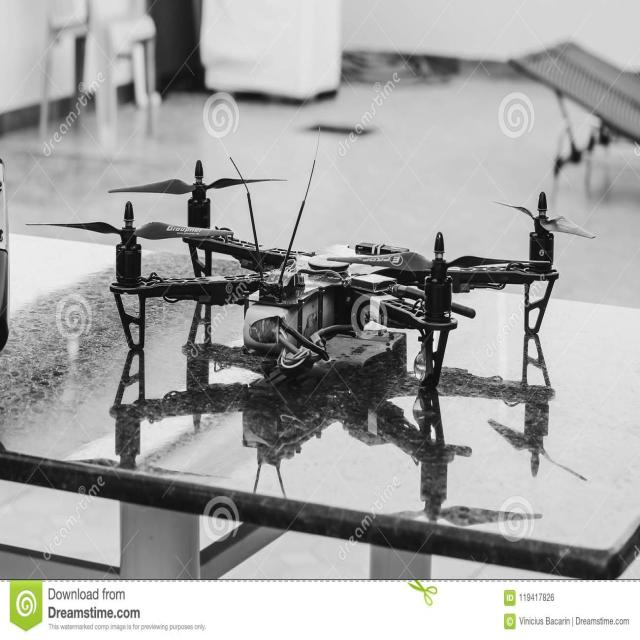drone: (57, 135, 584, 413)
